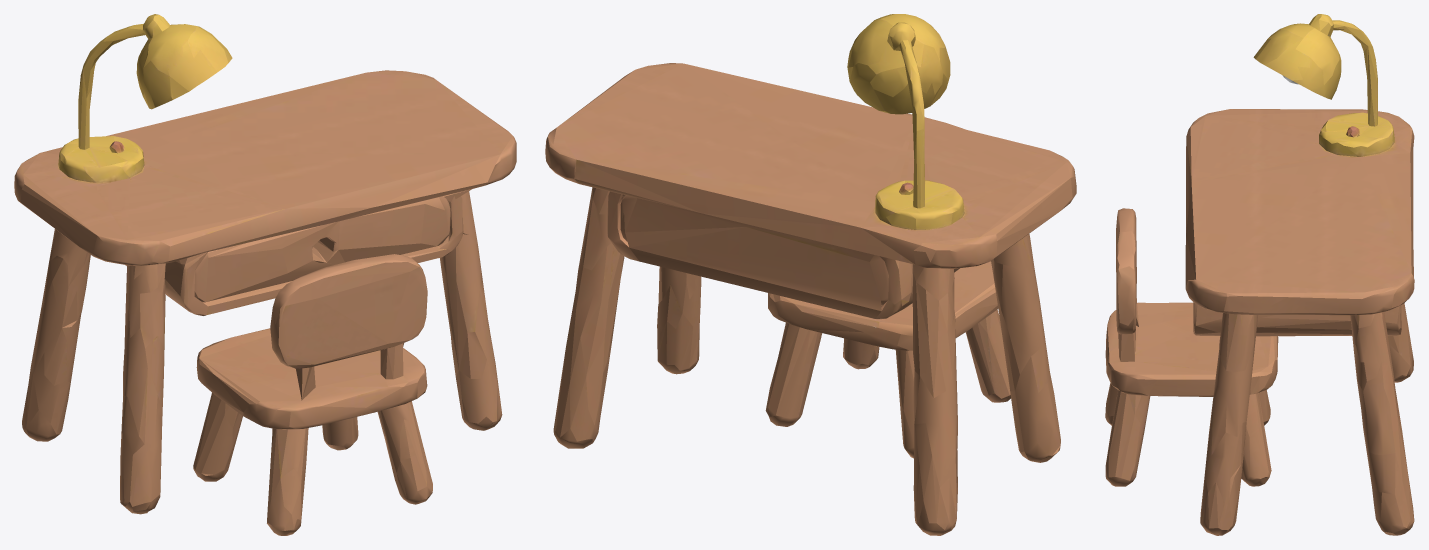
File: desk.glb
The picture shows the model from 3 angles, left to right: view 1: azimuth 30°, elevation 25°; view 2: azimuth 150°, elevation 25°; view 3: azimuth 270°, elevation 25°; orthographic projection. The views are drawn at different scales.
Size of the model in its own units: 1.1 by 1.1 by 0.7657.
1 material, 1 textured.
